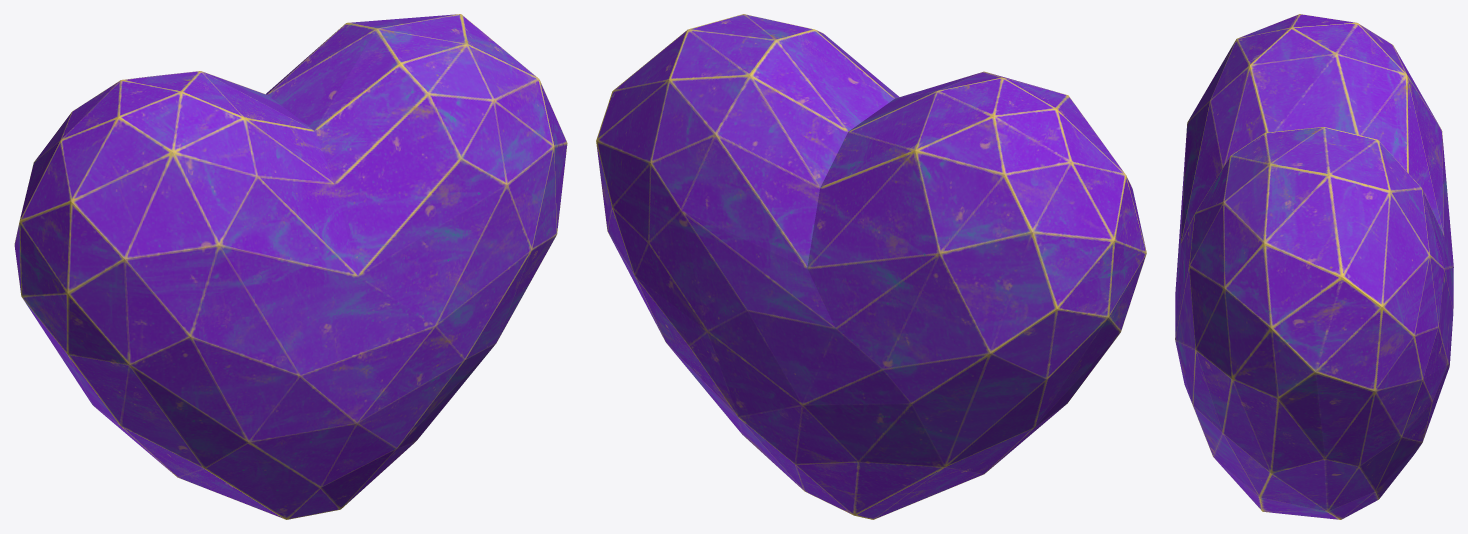
The model's file is crystal_heart.glb.
The picture shows the model from 3 angles, left to right: view 1: azimuth 30°, elevation 25°; view 2: azimuth 150°, elevation 25°; view 3: azimuth 270°, elevation 25°; orthographic projection. The views are drawn at different scales.
Visible parts, largest first — view 1: Love; view 2: Love; view 3: Love.
Part boxes in pixels (x1,y1,x2,y2): Love: [14, 14, 567, 519]; Love: [596, 14, 1146, 519]; Love: [1175, 14, 1453, 519].
Size of the model in its own units: 80.33 by 67.16 by 39.58.
1 material, 1 textured.
